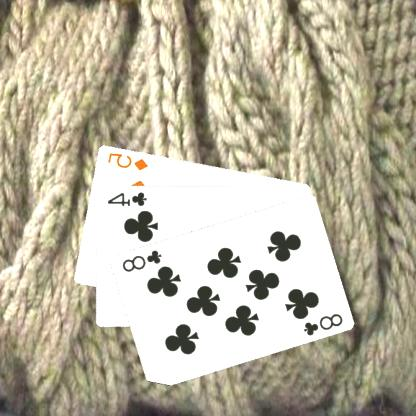4C: (106, 189, 150, 207)
5D: (106, 149, 151, 172)
8C: (302, 311, 346, 337), (121, 247, 164, 273)
